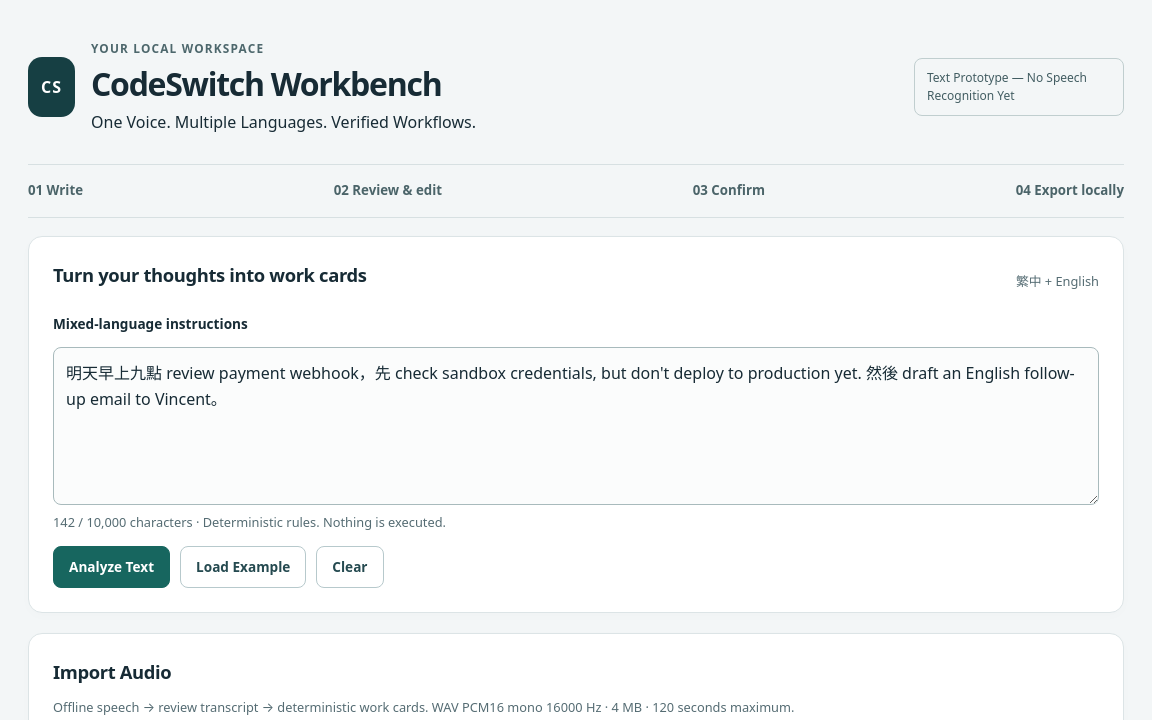
Test case: analyzes into exactly three cards and displays independent prohibition
Click the button "Analyze Text".
click(112, 567)  # box [53,546,170,588]
(page scrolled)
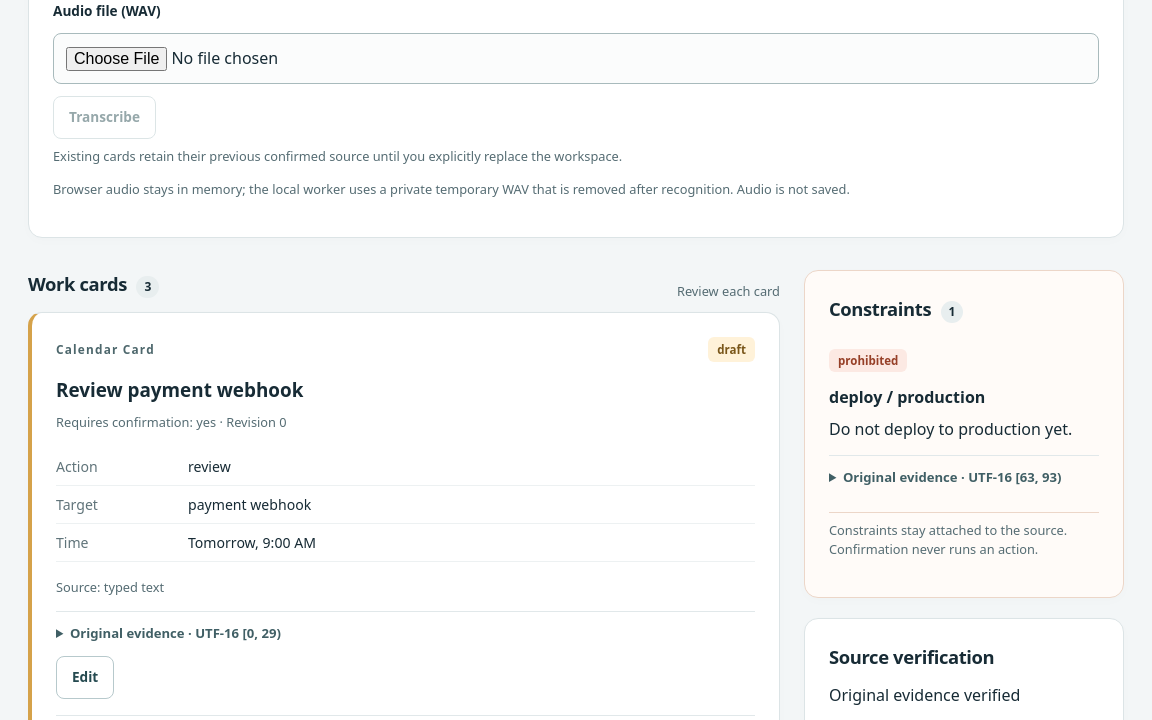
Expected: the text "Do not deploy to production yet." is shown, [829,417,1099,441]
Expected: the heading "deploy / production" is shown, [829,386,985,408]
Expected: the text "prohibited" is shown, [829,349,907,372]
